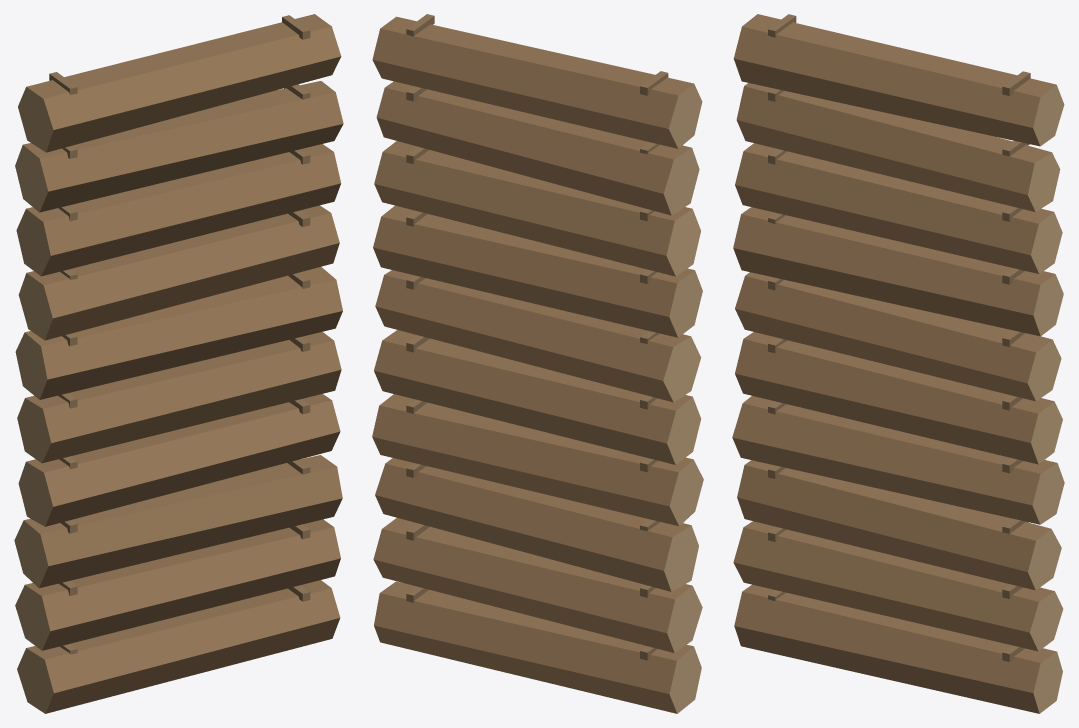
Rendered from wall_log_complete.glb.
3 views of the same model, side by side, from view 1: azimuth 30°, elevation 25°; view 2: azimuth 150°, elevation 25°; view 3: azimuth 330°, elevation 25° (orthographic).
Parts seen in each view (by area): view 1: wall_log_complete; view 2: wall_log_complete; view 3: wall_log_complete.
Boxes of the visible parts, x1=… form: wall_log_complete: x1=14, y1=14, x2=343, y2=713; wall_log_complete: x1=372, y1=14, x2=703, y2=713; wall_log_complete: x1=732, y1=14, x2=1064, y2=713.
Size of the model in its own units: 0.9896 by 1.98 by 0.2278.
